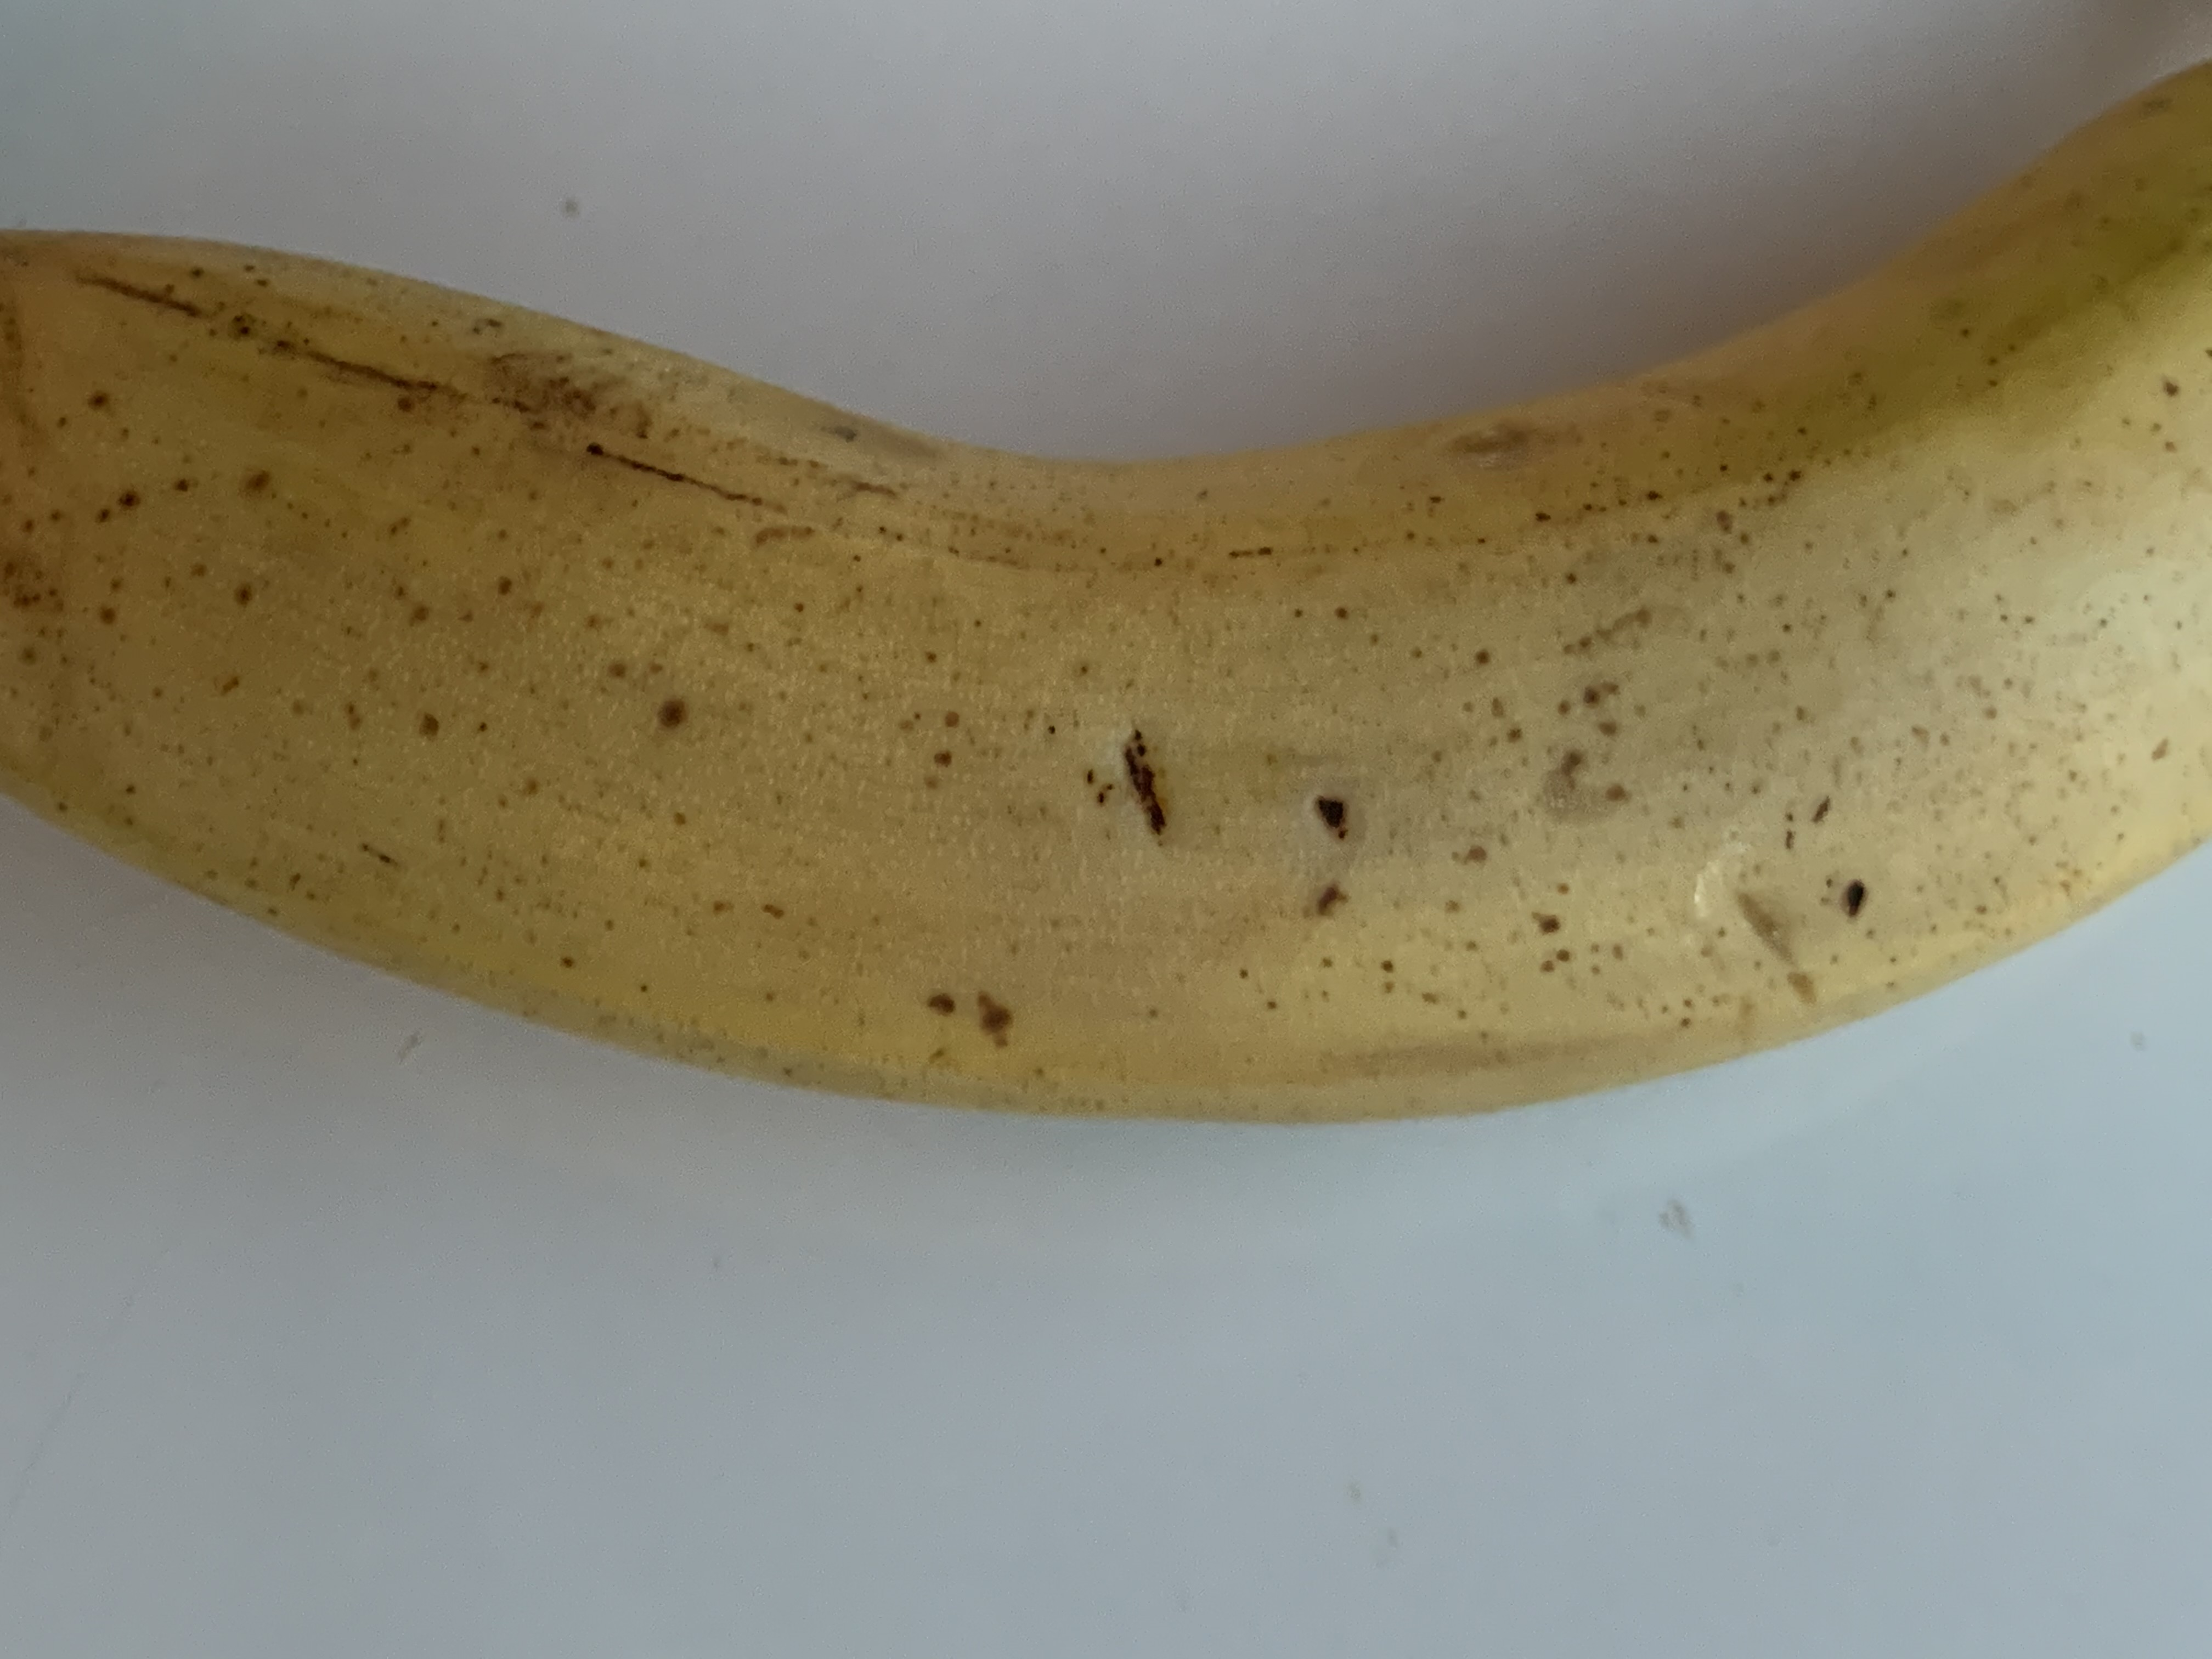banana: (2, 61, 2212, 1138)
